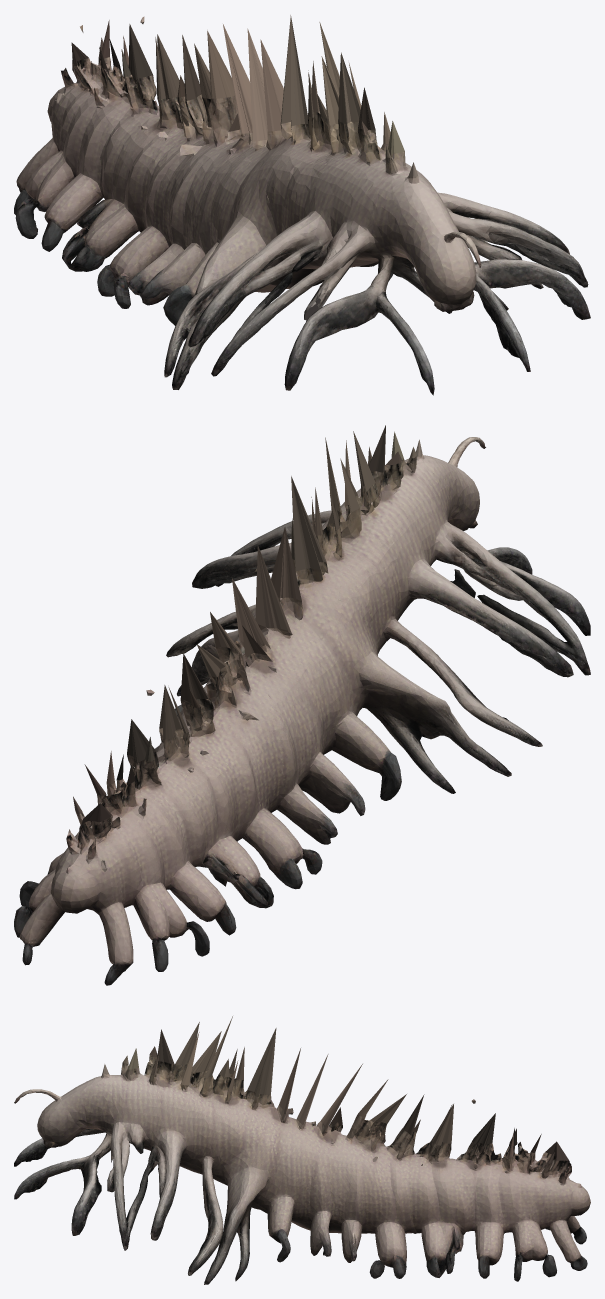
3 views of the same model, one above another, from view 1: azimuth 30°, elevation 25°; view 2: azimuth 150°, elevation 25°; view 3: azimuth 270°, elevation 25° (orthographic). The views are drawn at different scales.
Visible parts, largest first — view 1: world; view 2: world; view 3: world.
Part boxes in pixels (<box>): world: <box>14,15,590,395</box>; world: <box>14,425,590,985</box>; world: <box>14,1016,590,1284</box>.
Bounding box in the file's own units: 0.0537 × 0.0478 × 0.1031.
39 materials, 2 textured.
